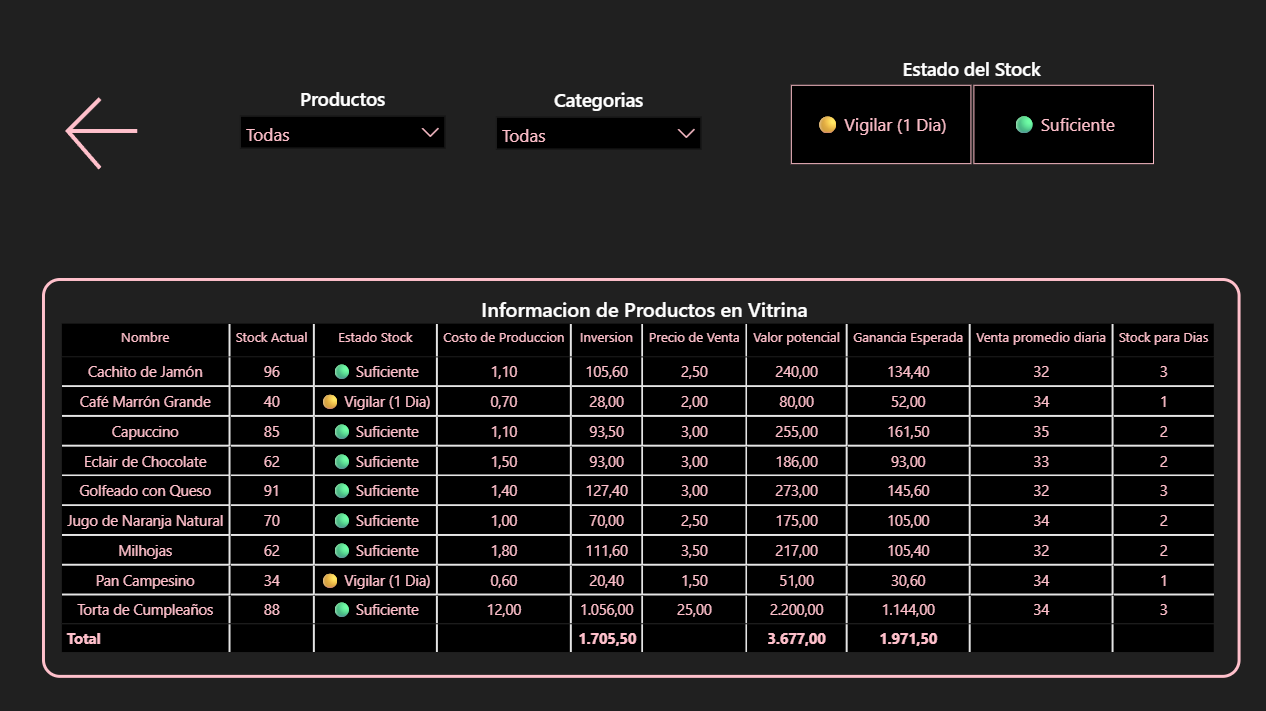

This screenshot's page, from the dashboard's own definition file:
{"tool":"powerbi","page":{"name":"Pagina 4","canvas":[1280,720],"ordinal":3},"visuals":[{"type":"tableEx","title":"Informacion de Productos en Vitrina","fields":{"Values":["public productos.nombre","public productos.stock_actual","public productos.Estado Stock","public productos.costo_produccion","Medidas.Invertido","public productos.precio_venta","Medidas.Valor potencial","Medidas.Ganancia Esperada","public productos.Venta promedio diaria","public productos.Stock suficiente Dias"]},"box":[44.3,281.2,1208.4,403.1],"z":0},{"type":"slicer","title":"Estado del Stock","fields":{"Values":["public productos.Estado Stock"]},"box":[778.1,57.4,406.2,110.9],"z":1000},{"type":"slicer","title":"Categorias","fields":{"Values":["public categorias.nombre"]},"box":[496.9,88.7,216.7,78.6],"z":2000},{"type":"slicer","title":"Productos","fields":{"Values":["public productos.nombre"]},"box":[238.9,87.7,216.7,79.6],"z":3000},{"type":"actionButton","box":[44.3,68.5,122,134],"z":4000}]}

Visuals, with their boxes in screenshot pixels (x1, y1, x2, y2), scaled from the page's 1280x720 canvas onto the 1266x711 screenshot:
"Informacion de Productos en Vitrina" tableEx: <bbox>44, 278, 1239, 676</bbox>
"Estado del Stock" slicer: <bbox>770, 57, 1171, 166</bbox>
"Categorias" slicer: <bbox>491, 88, 706, 165</bbox>
"Productos" slicer: <bbox>236, 87, 451, 165</bbox>
actionButton: <bbox>44, 68, 164, 200</bbox>
